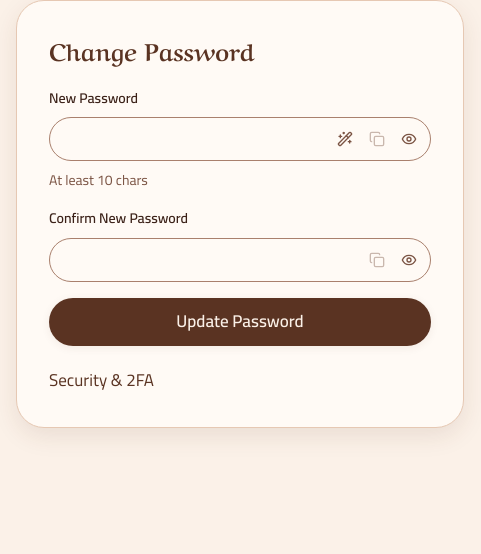
Email recovery destination › rejects invalid password pair without a request
In the password field labelled "New Password": x=240, y=139 [49, 117, 431, 161], type "different-one!"
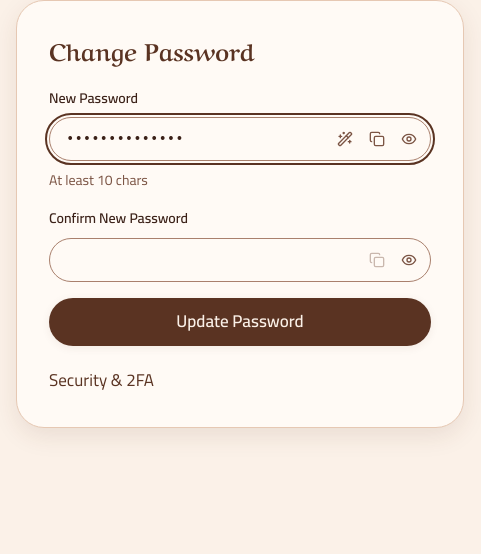
In the password field labelled "Confirm New Password": x=240, y=260 [49, 238, 431, 282], type "different-two!"
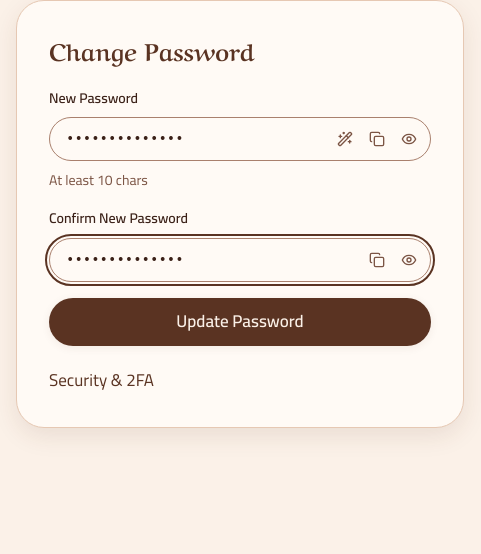
Click the button "Update Password": x=240, y=322 [49, 298, 431, 346]
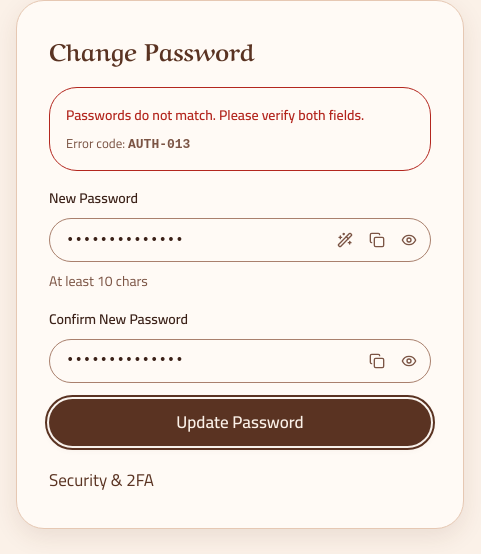
Expected: the message shows "AUTH-013", [128, 137, 190, 152]
